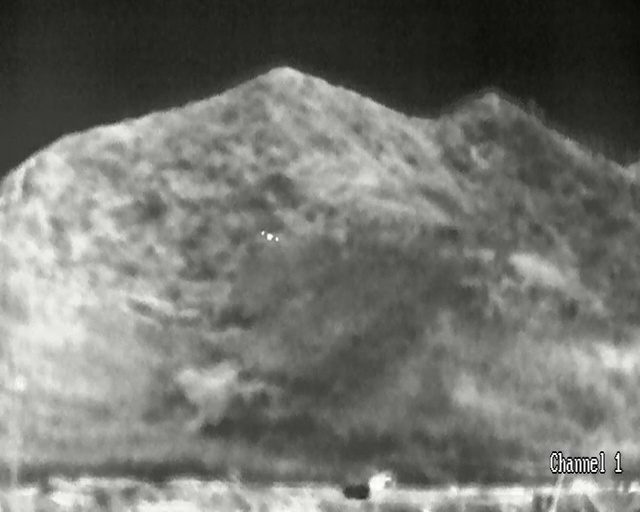uav: (261, 231, 279, 241)
